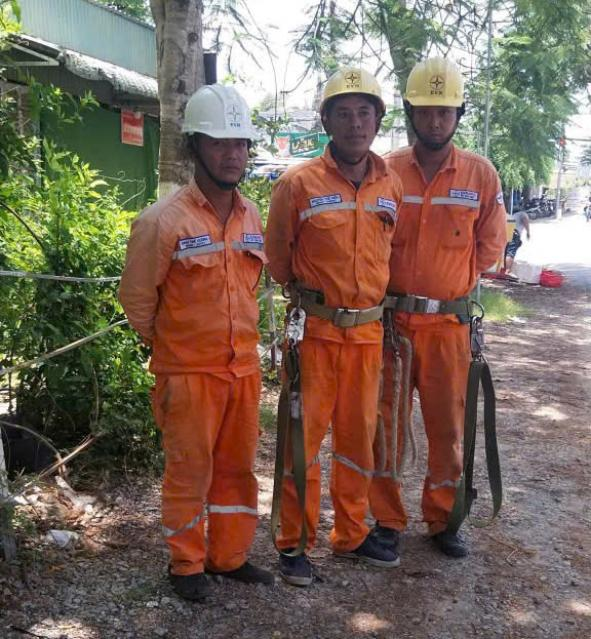harness: (277, 276, 398, 333), (389, 277, 481, 330)
helmet: (182, 82, 267, 148), (316, 54, 388, 126), (405, 51, 476, 115)
shoes: (332, 529, 402, 572), (157, 562, 220, 609), (423, 517, 479, 561), (268, 534, 314, 585), (212, 555, 274, 587), (363, 515, 404, 557)
